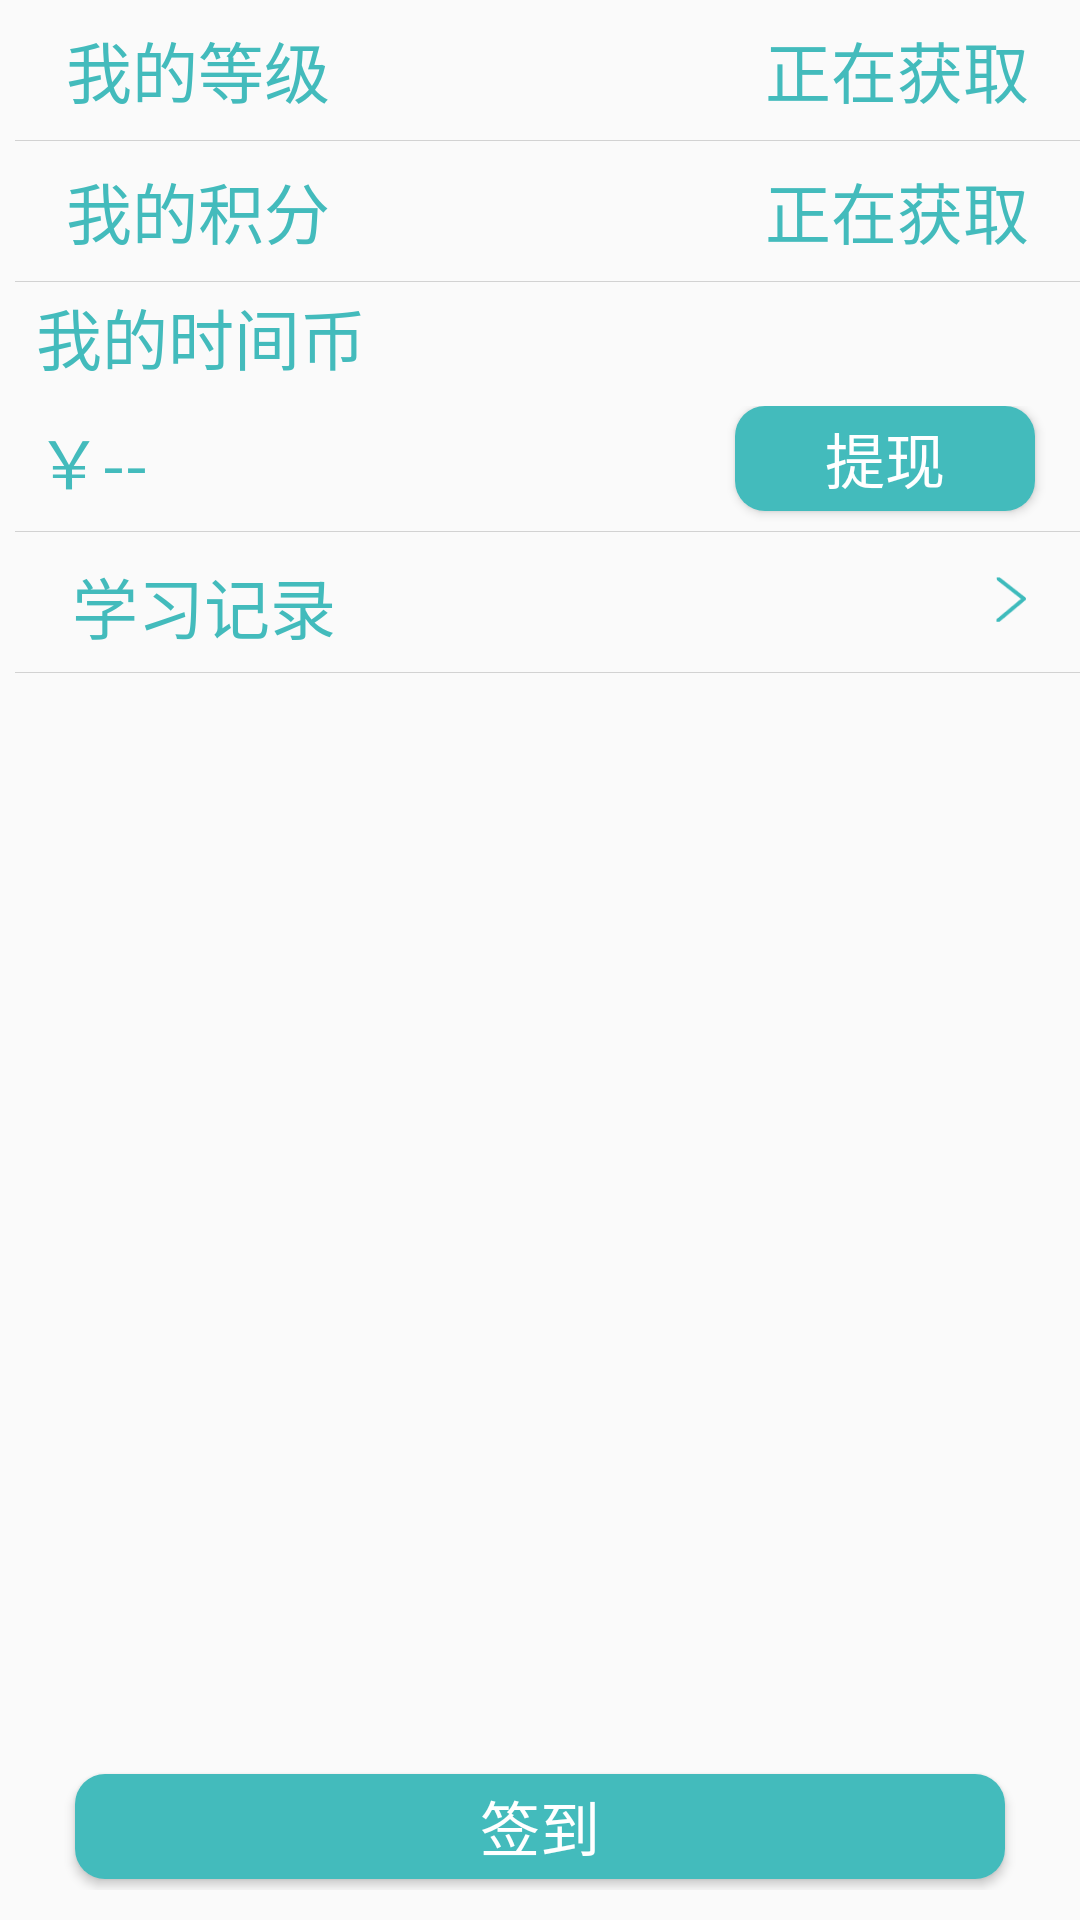

Named icons in this screenshot (1080px x 1920px) and their centers, point (x, y):
next: point (1011, 599)
